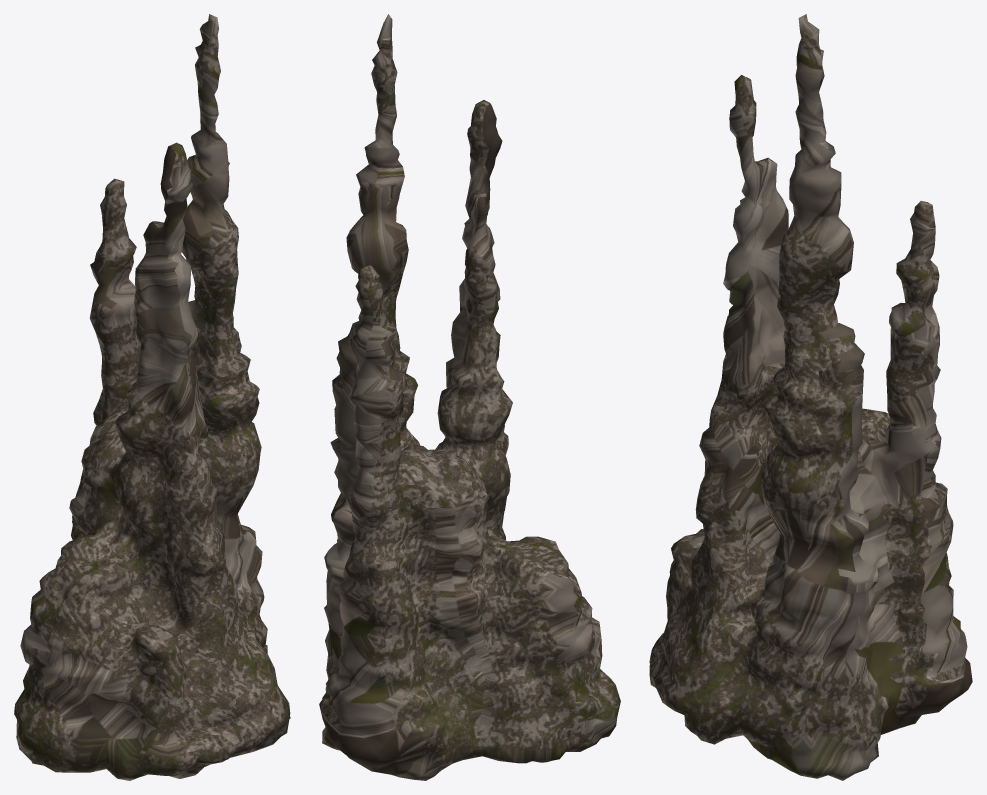
Rendered from SM_Stalacite_C.fbx.
3 renders of one model, left to right at view 1: azimuth 30°, elevation 25°; view 2: azimuth 150°, elevation 25°; view 3: azimuth 270°, elevation 25°, orthographic. The views are drawn at different scales.
Visible parts, largest first — view 1: SM_Stalacite_C_LOD0; view 2: SM_Stalacite_C_LOD0; view 3: SM_Stalacite_C_LOD0.
Part boxes in pixels (bbox=[...]): SM_Stalacite_C_LOD0: bbox=[14, 14, 290, 780]; SM_Stalacite_C_LOD0: bbox=[319, 14, 620, 780]; SM_Stalacite_C_LOD0: bbox=[649, 14, 972, 780].
Size of the model in its own units: 267 by 280 by 714.
